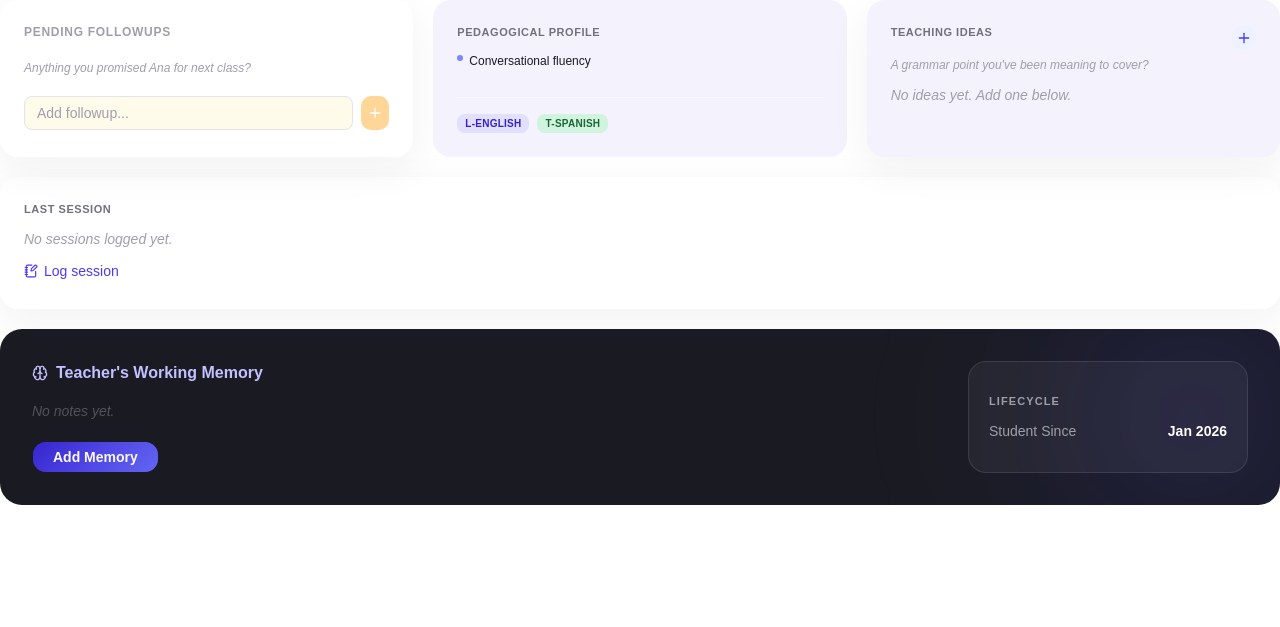
StudentOverviewTab - TeachingNotesPanel › shows textarea when Add Memory is clicked
What coordinates should you click on to do the following:
click the button with test id "add-memory-btn"
I would click on:
 (95, 457)
Its box is [32, 441, 159, 473].
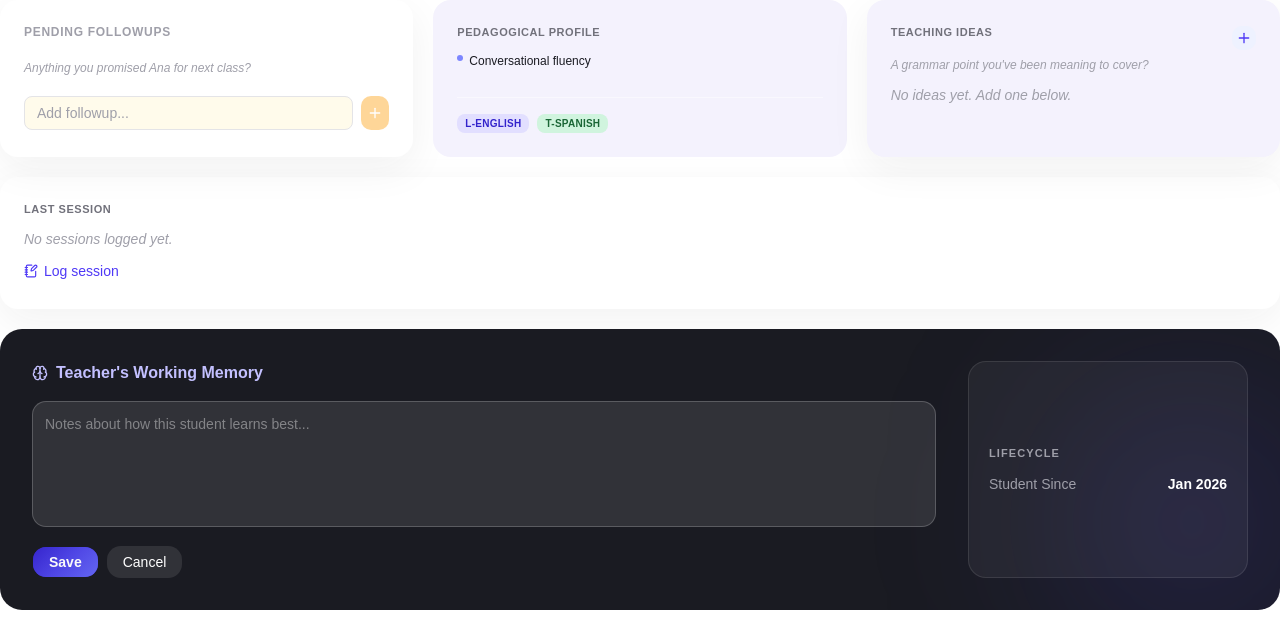
Check: the text box with test id "teaching-notes-textarea" is shown, box [32, 401, 936, 527]
